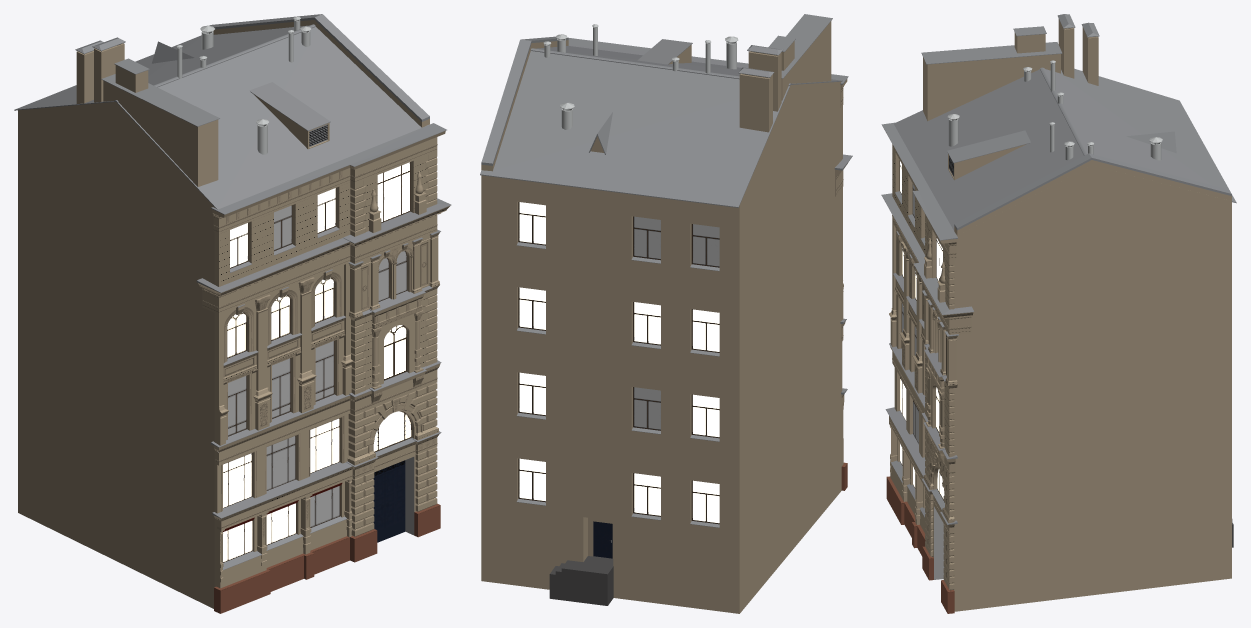
The model's file is houseForStreet8.FBX.
The picture shows the model from 3 angles, left to right: view 1: azimuth 30°, elevation 25°; view 2: azimuth 150°, elevation 25°; view 3: azimuth 270°, elevation 25°; orthographic projection. The views are drawn at different scales.
Parts seen in each view (by area): view 1: 01080-50@35357; view 2: 01080-50@35357; view 3: 01080-50@35357.
Part boxes in pixels (x1,y1,x2,y2): 01080-50@35357: (14, 14, 451, 613); 01080-50@35357: (480, 14, 852, 613); 01080-50@35357: (881, 14, 1236, 613).
Bounding box in the file's own units: 19.71 × 30.66 × 20.88.
1 material, 1 textured.
